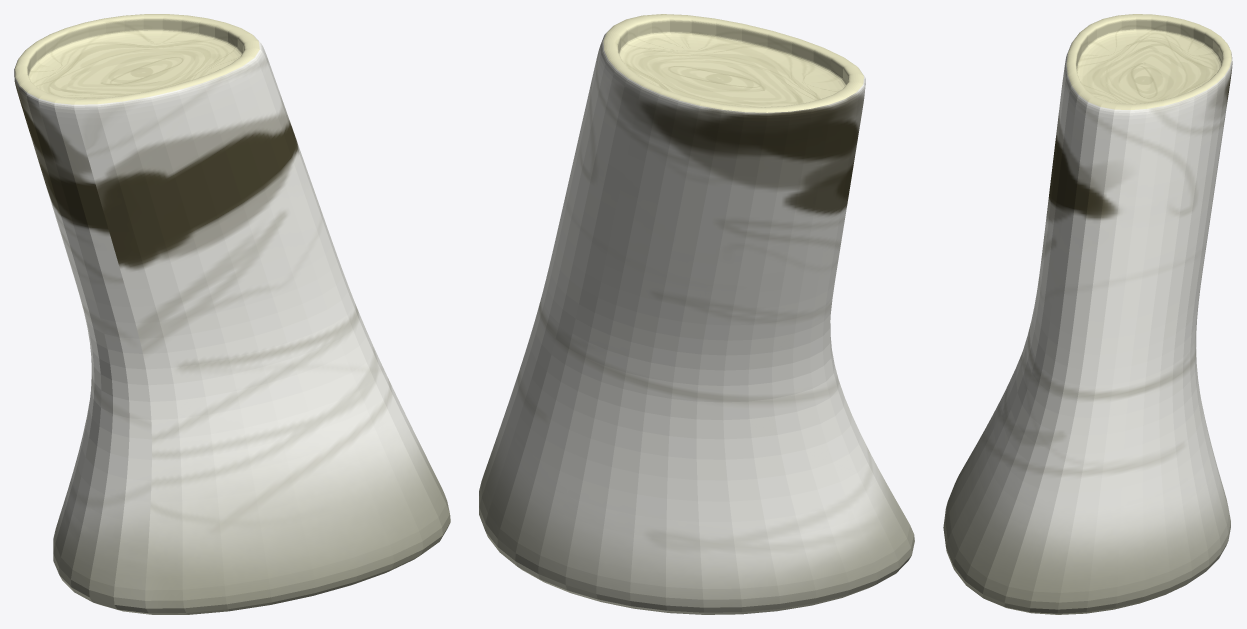
Rendered from birch_tree_stump.fbx.
The picture shows the model from 3 angles, left to right: view 1: azimuth 30°, elevation 25°; view 2: azimuth 150°, elevation 25°; view 3: azimuth 270°, elevation 25°; orthographic projection. The views are drawn at different scales.
Visible parts, largest first — view 1: Cube; view 2: Cube; view 3: Cube.
Boxes of the visible parts, x1,y1,x2,y2 form: Cube: (14,14,450,614); Cube: (479,14,914,614); Cube: (943,14,1232,614).
Size of the model in its own units: 111 by 142 by 81.57.
1 material, 1 textured.
